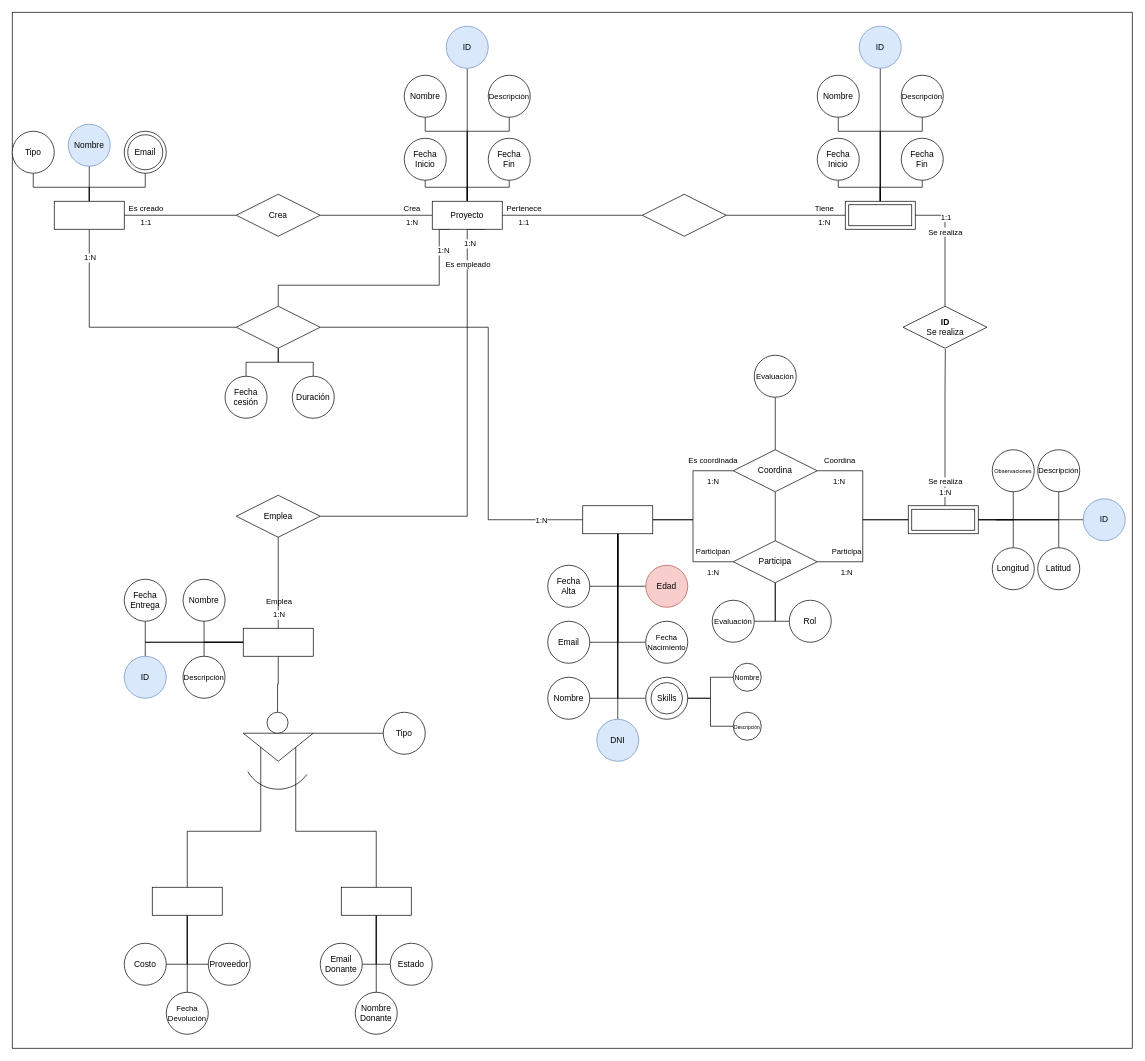
This 1145x1061 diagram has some shape labels left out. The centre of each missing label's shape, as x and y in pixels:
"Actividad" goes at (x=880, y=215).
"Alquilado" goes at (x=187, y=901).
"Ceder" goes at (x=278, y=327).
"Donado" goes at (x=376, y=901).
"ID Tiene" goes at (x=684, y=215).
"Localización" goes at (x=943, y=519).
"Organización" goes at (x=89, y=215).
"Recurso" goes at (x=278, y=642).
"Voluntario" goes at (x=617, y=519).
